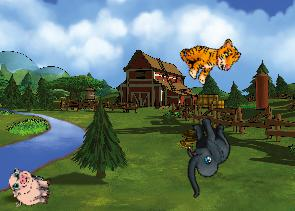elephant: (166, 112, 244, 198)
pig: (7, 167, 52, 208)
tiger: (174, 23, 244, 91)
